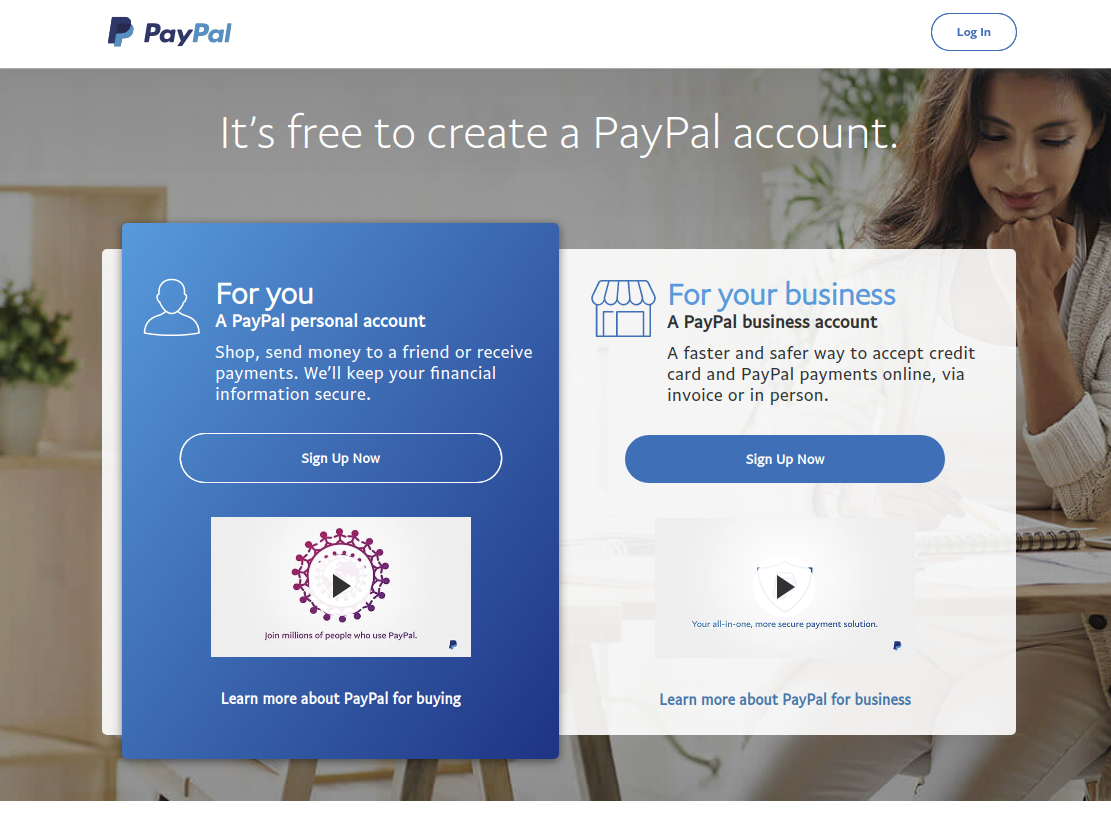Paypal: (105, 10, 235, 55)
